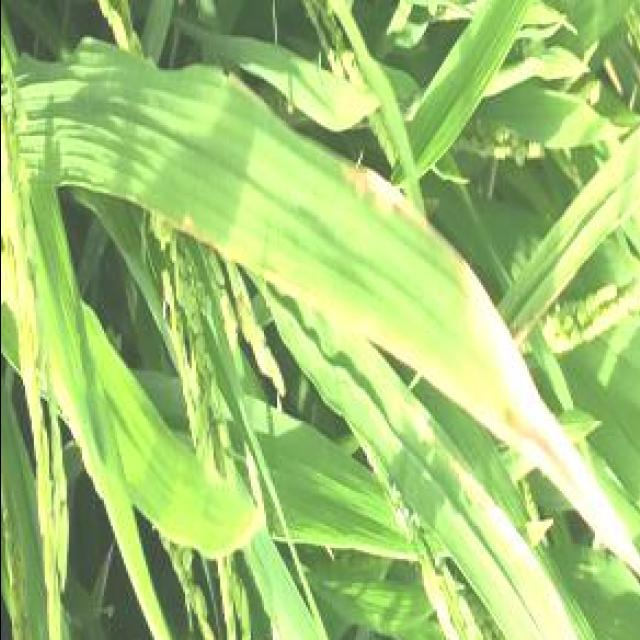Bacterial_Leaf_Blight: (176, 180, 520, 386)
